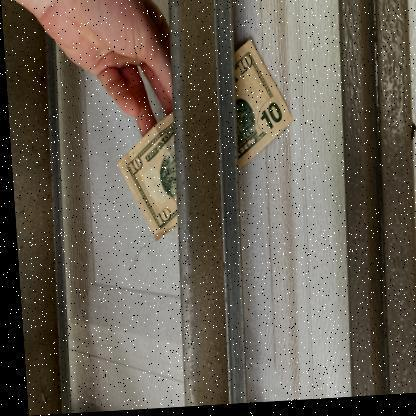ten-back: (112, 41, 292, 245)
